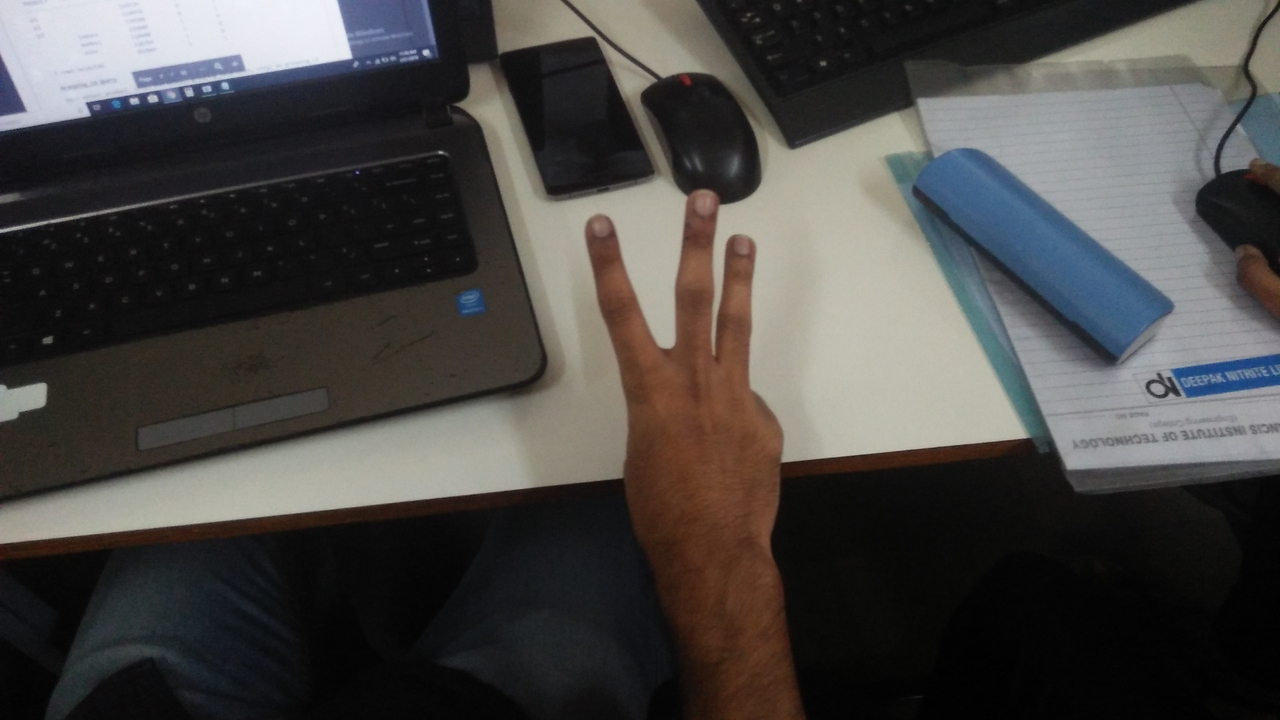fingertip: (574, 200, 634, 254), (674, 182, 726, 226), (724, 233, 760, 266)
